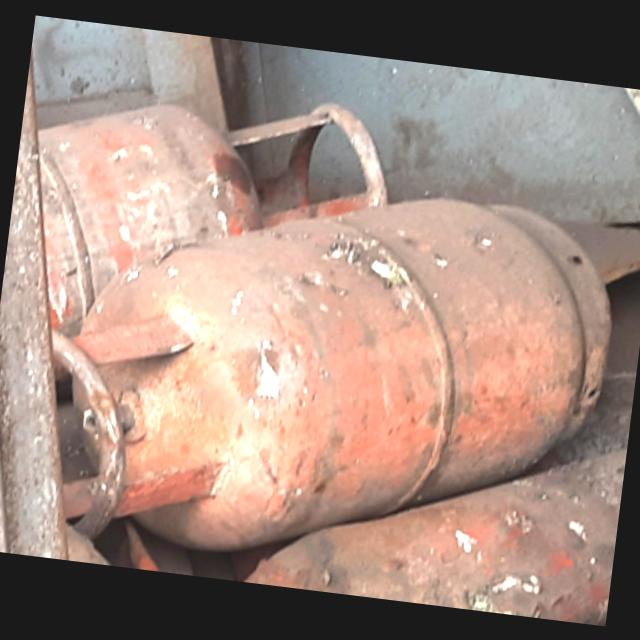Cylinders: (46, 196, 615, 554), (31, 95, 385, 333)
